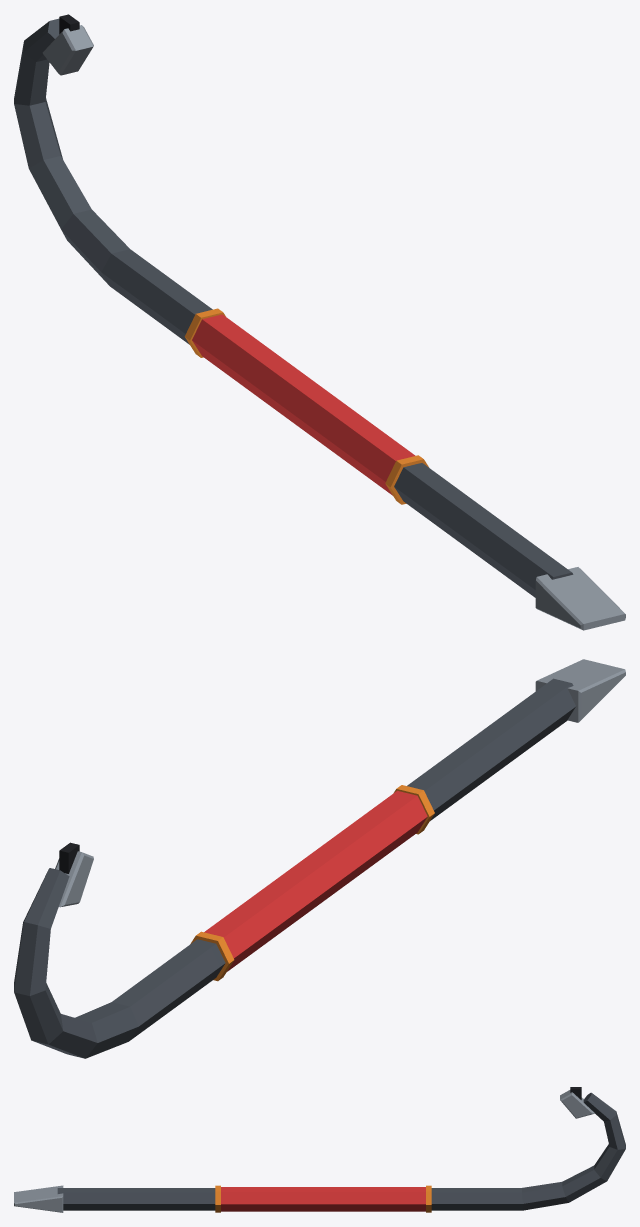
Rendered from crowbar.glb.
The picture shows the model from 3 angles, top to bottom: view 1: azimuth 30°, elevation 25°; view 2: azimuth 150°, elevation 25°; view 3: azimuth 270°, elevation 25°; orthographic projection. The views are drawn at different scales.
Visible parts, largest first — view 1: Body; view 2: Body; view 3: Body.
Part boxes in pixels (left/top/right/bottom): Body: left=14, top=14, right=625, bottom=630; Body: left=14, top=659, right=625, bottom=1058; Body: left=14, top=1087, right=625, bottom=1212.
Size of the model in its own units: 0.029 by 0.1413 by 0.6446.
